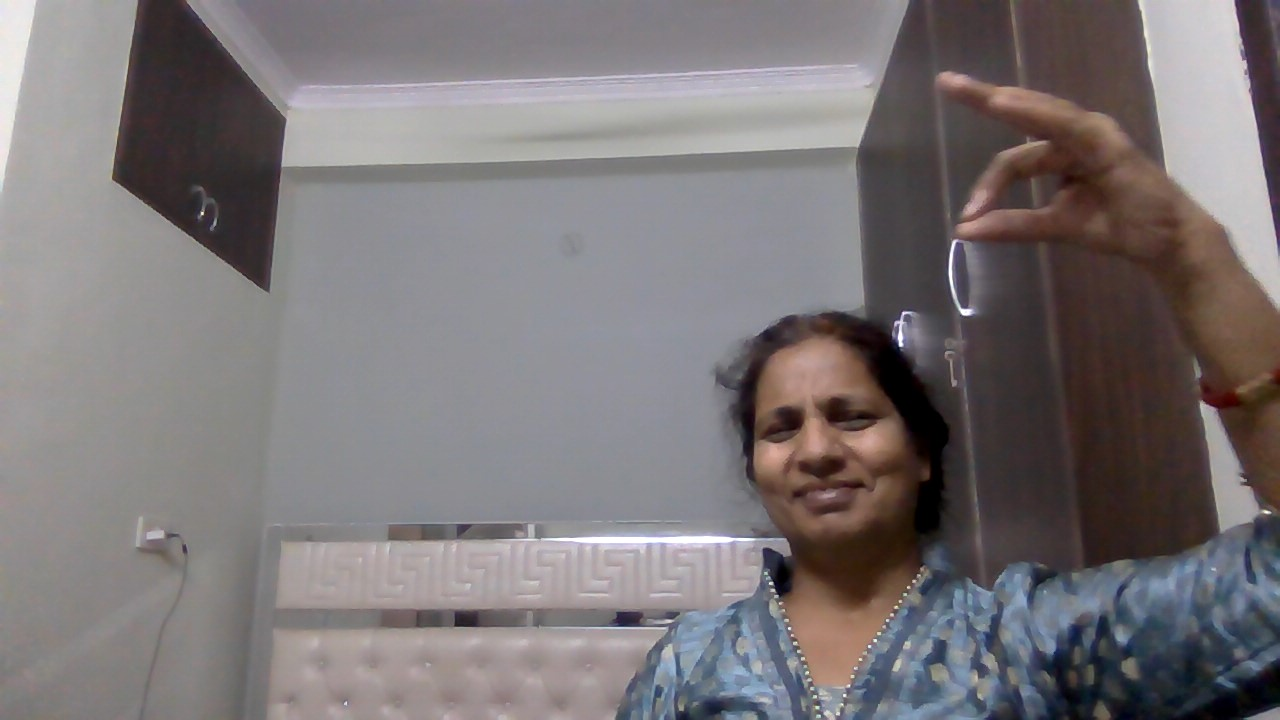Copy: (919, 63, 1206, 286)
